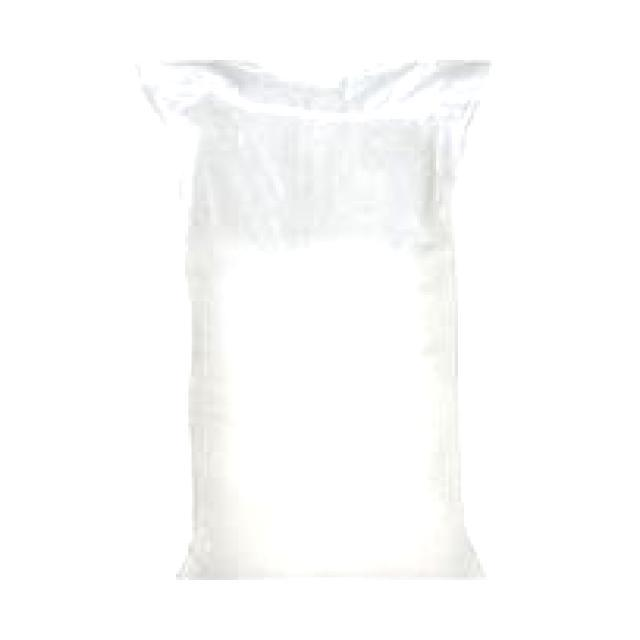gunny_bag: (125, 55, 507, 585)
